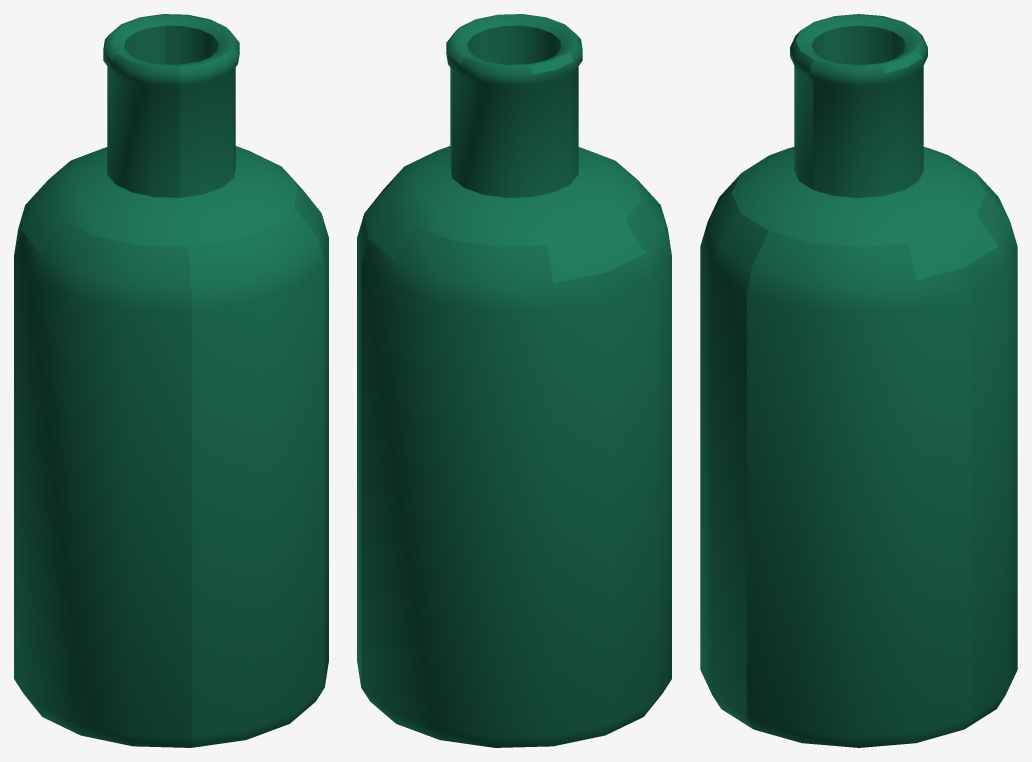
File: batle2.glb
The picture shows the model from 3 angles, left to right: view 1: azimuth 30°, elevation 25°; view 2: azimuth 150°, elevation 25°; view 3: azimuth 270°, elevation 25°; orthographic projection.
Visible parts, largest first — view 1: Cylinder_002_garbage_0; view 2: Cylinder_002_garbage_0; view 3: Cylinder_002_garbage_0.
Part boxes in pixels (box(x1,y1,x2,y2)): Cylinder_002_garbage_0: box(14, 14, 328, 747); Cylinder_002_garbage_0: box(357, 14, 671, 747); Cylinder_002_garbage_0: box(700, 14, 1017, 747).
Size of the model in its own units: 3.05 by 6.83 by 3.05.
